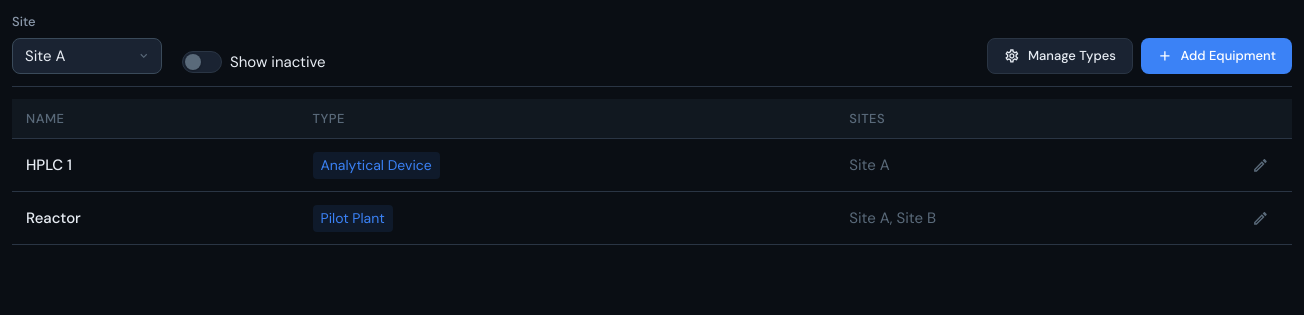
it: EquipmentPanel › hides inactive equipment until the Show inactive switch is on
Expected: the text "Reactor" is shown, 26,207 -> 81,229
Expected: the text "Old Balance" is not shown
Click the switch labelled "Show inactive". click: coordinates (189, 62)
box: 181,54 -> 197,70
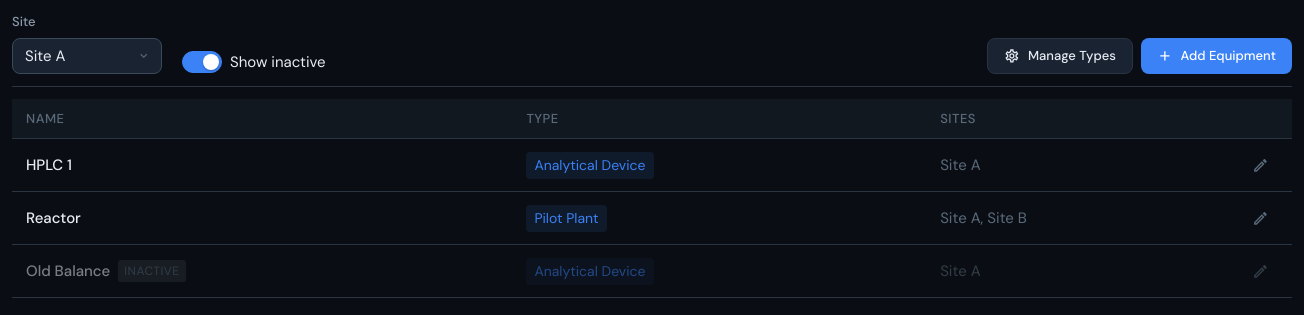
Expected: the text "Old Balance" is shown, 26,260 -> 110,282
Click the switch labelled "Show inactive". click: coordinates (189, 62)
box: 181,54 -> 197,70
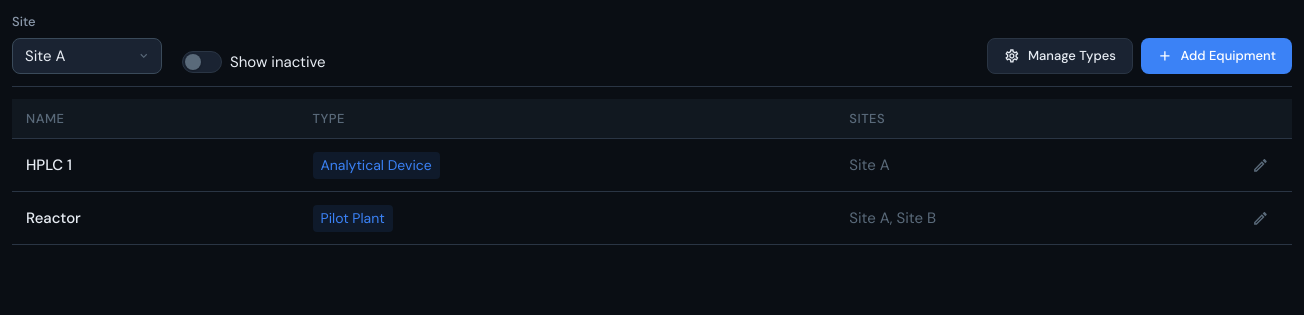
Expected: the text "Old Balance" is gone
